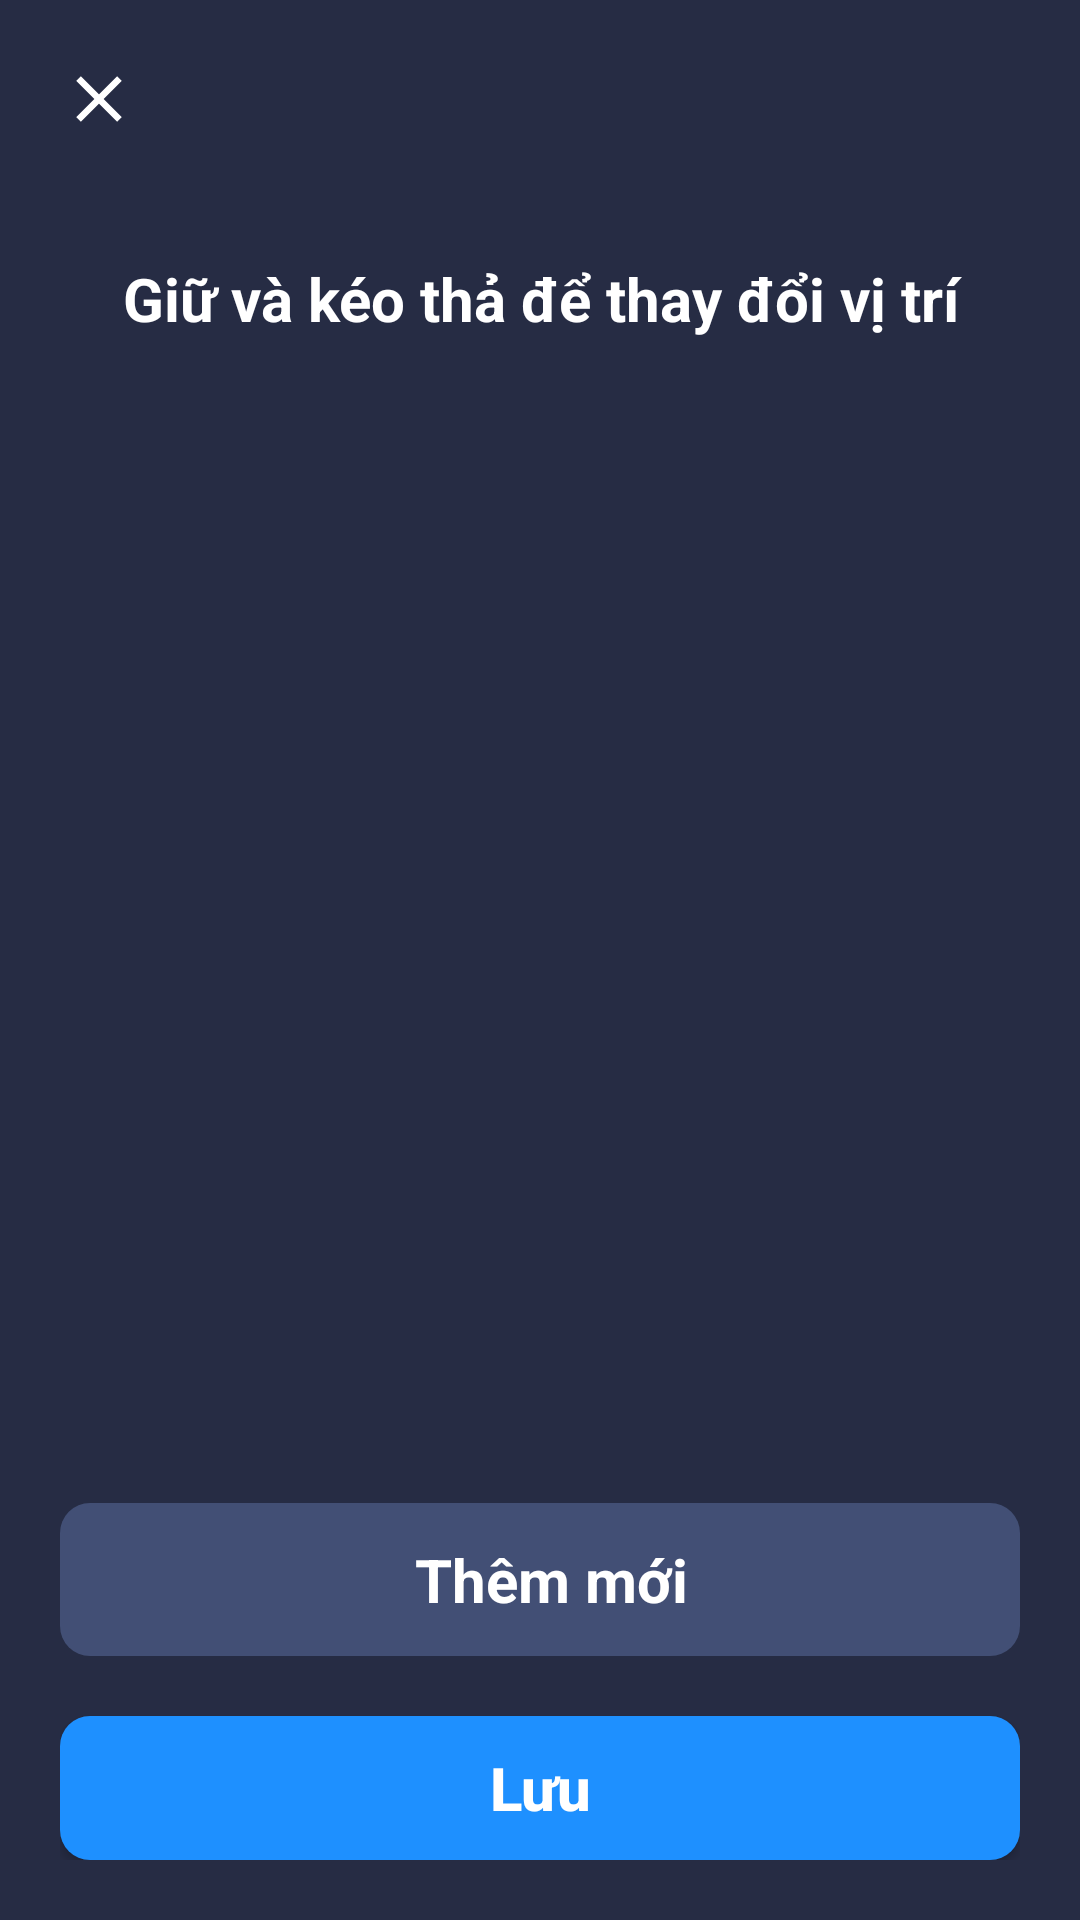

Named icons in this screenshot (1080 × 1920) and their centers, point (x, y):
cancel: point (99, 99)
